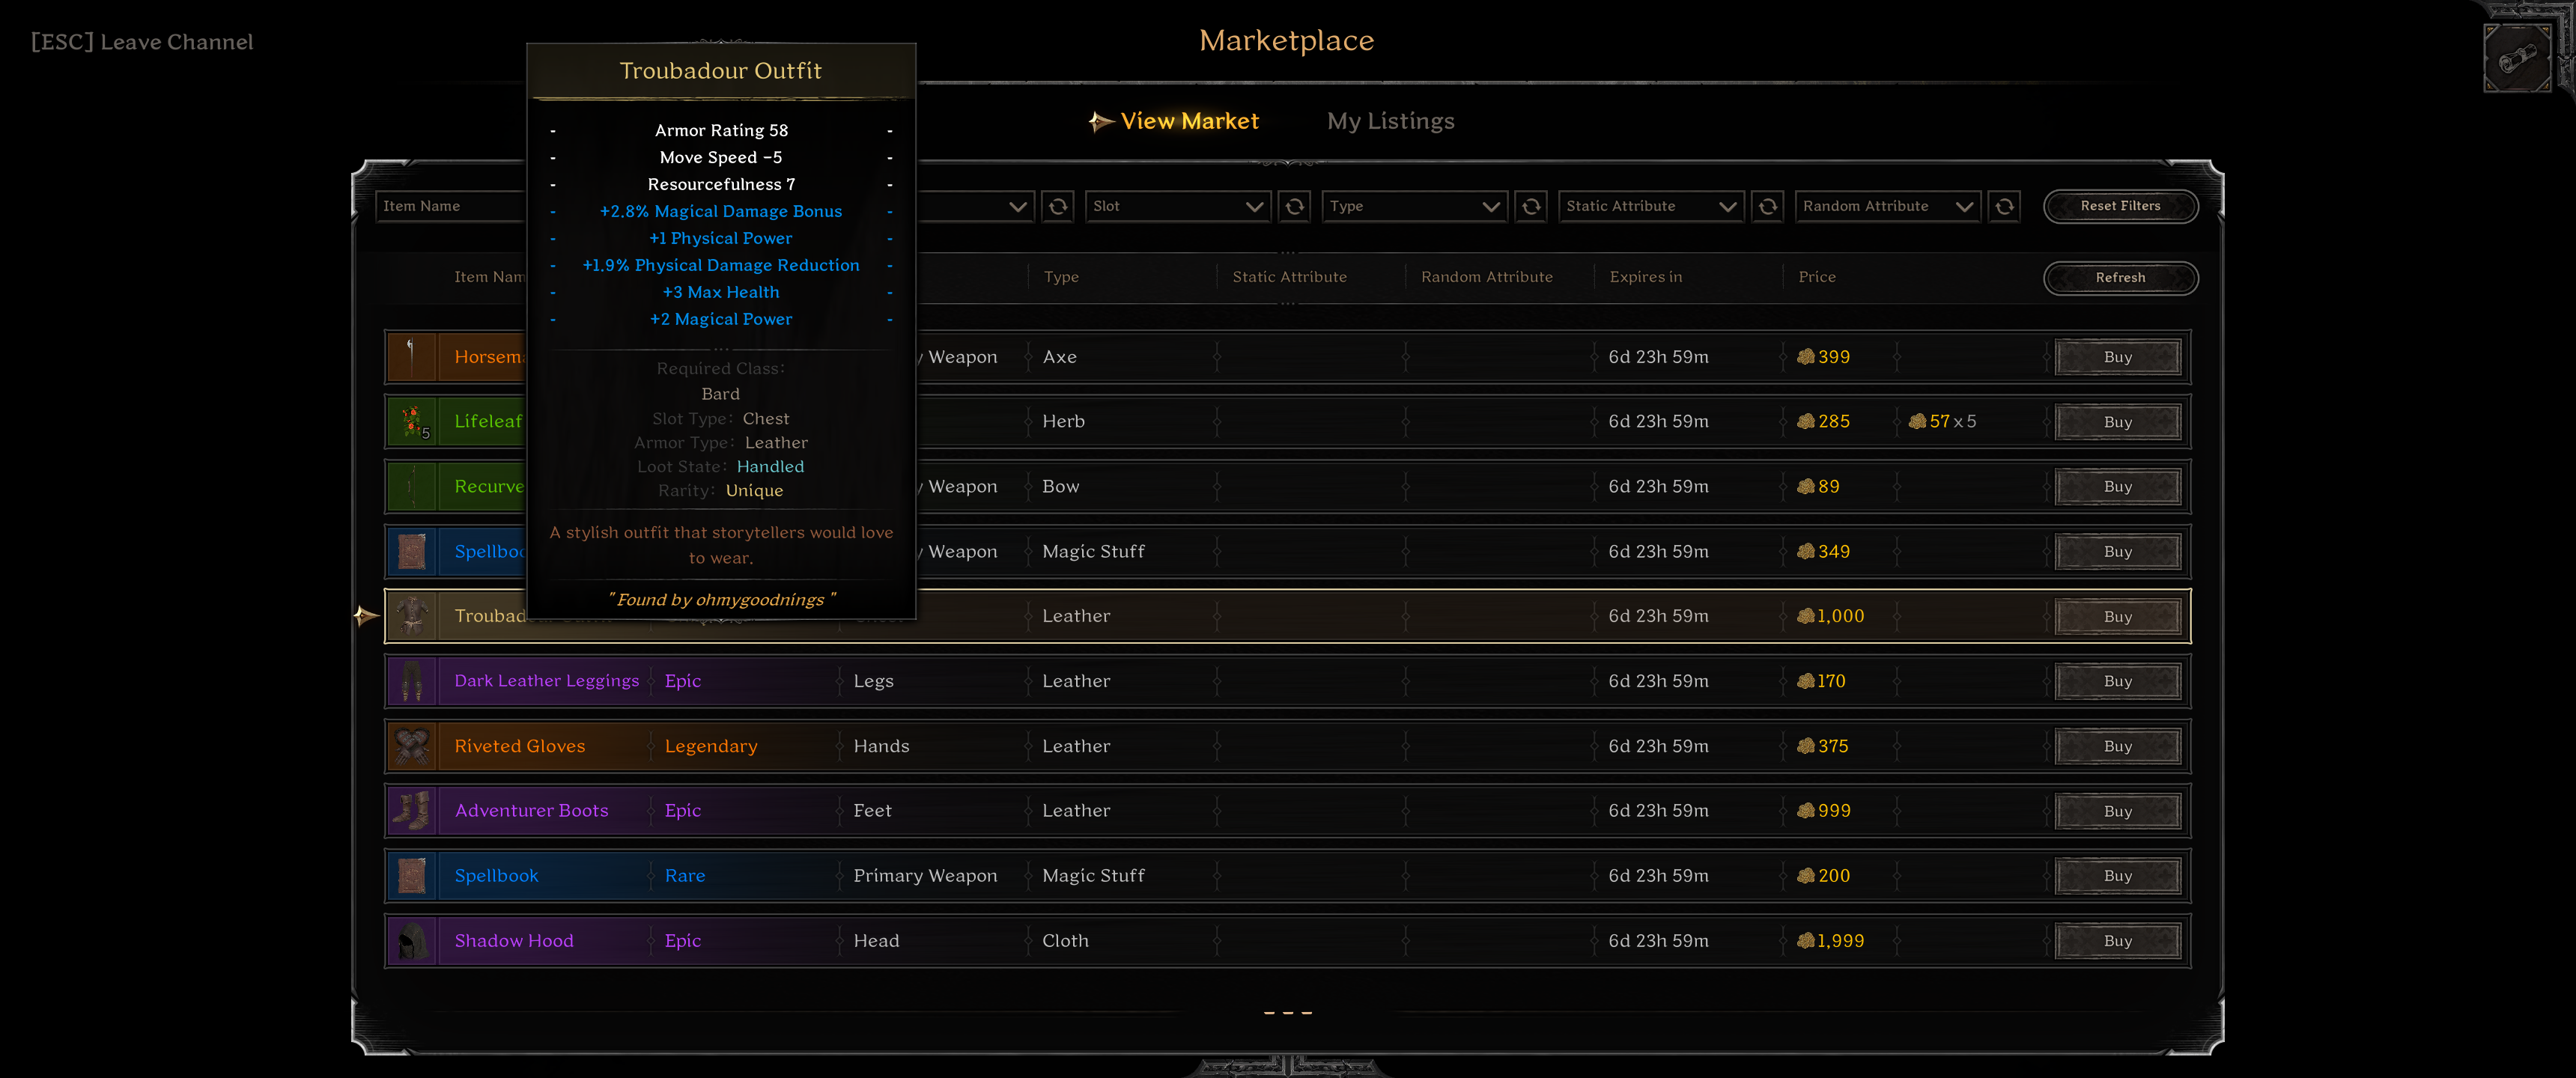Tooltip: (524, 41, 918, 621)
